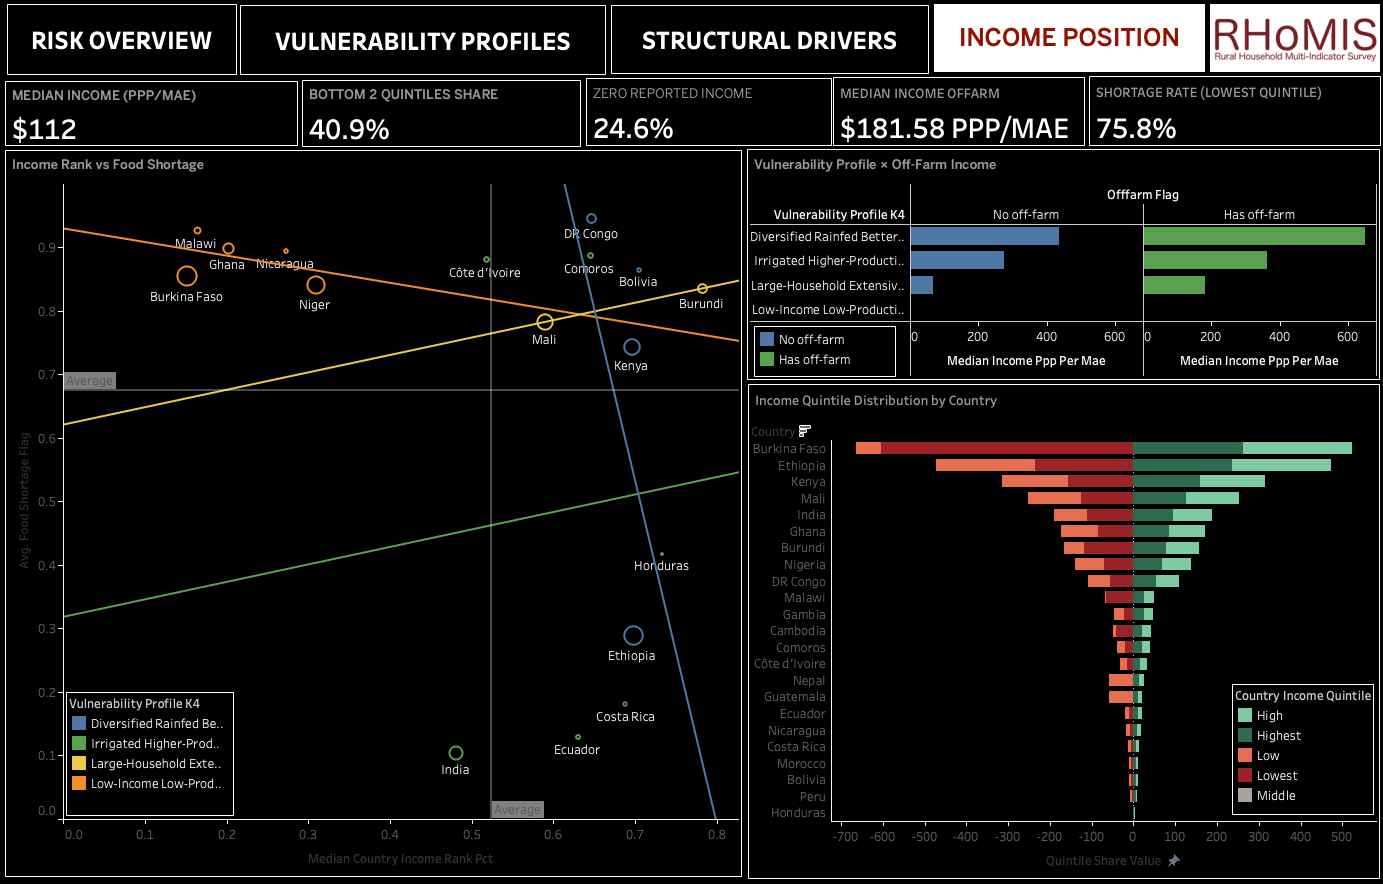

Layout of this report page (visuals, bound fields, positions):
{"tool":"tableau","page":{"name":"INCOME POSITION","canvas":[1000,1000],"units":"permille","ordinal":0},"visuals":[{"type":"blank","box":[5.7,8.9,988.6,982.2]},{"type":"dashboard-object","box":[10.7,13.3,164.3,78.9]},{"type":"image","param":"Image/rhomis-logo.png","box":[870,13.3,122.1,75.6]},{"type":"dashboard-object","box":[177.1,14.4,261.4,77.8]},{"type":"dashboard-object","box":[442.1,14.4,226.4,76.7]},{"type":"text","box":[674.1,15.7,192.2,72.5]},{"type":"worksheet","title":"KPI4-SHORTAGE RATE (LOWEST QUINTILE)","mark":"Automatic","box":[783.6,93.3,208.6,77.8]},{"type":"worksheet","title":"KPI4-MEDIAN INCOME OFFARM","mark":"Automatic","box":[600.7,94.4,180,76.7]},{"type":"worksheet","title":"KPI4-ZERO REPORTED INCOME","mark":"Automatic","box":[424.3,95.6,175.7,75.6]},{"type":"worksheet","title":"KPI4-BOTTOM 2 QUINTILES SHARE","mark":"Automatic","box":[221.4,97.8,199.3,74.4]},{"type":"worksheet","title":"KPI4-MEDIAN INCOME (PPP/MAE)","mark":"Automatic","box":[9.3,98.9,209.3,72.2]},{"type":"worksheet","title":"Vulnerability Profile × Off-Farm Income ","mark":"Bar","rows":["vulnerability_profile_k4"],"cols":["offfarm_flag","income_ppp_per_mae"],"box":[539.3,174.4,452.1,256.7]},{"type":"worksheet","title":"Income Rank vs Food Shortage","mark":"Automatic","rows":["food_shortage_flag"],"cols":["country_income_rank_pct"],"box":[9.3,175.6,526.4,807.8]},{"type":"legend","title":"Vulnerability Profile × Off-Farm Income ","param":"[federated.18g2uha1kfgs62108f3sf1ksln33].[none:offfarm_flag:ok]","box":[544.3,371.1,101.4,56.7]},{"type":"worksheet","title":"Income Quintile Distribution by Country","mark":"Bar","rows":["country"],"box":[540,435.6,451.4,550]},{"type":"legend","title":"Income Quintile Distribution by Country","param":"[federated.18g2uha1kfgs62108f3sf1ksln33].[none:country_income_quintile:nk]","box":[885.7,768.9,101.4,145.6]},{"type":"legend","title":"Income Rank vs Food Shortage","param":"[federated.18g2uha1kfgs62108f3sf1ksln33].[none:vulnerability_profile_k4:nk]","box":[52.9,777.8,120,137.8]}]}

Visuals, with their boxes on the dashboard's canvas, which has no fixed pixel size, in thousandths of its width and height (x1, y1, x2, y2). These are canvas units, not pixel positions in the 1383x886 screenshot, which may show the page scaled, cropped or inside an application window:
blank: rect(6, 9, 994, 991)
dashboard-object: rect(11, 13, 175, 92)
image: rect(870, 13, 992, 89)
dashboard-object: rect(177, 14, 438, 92)
dashboard-object: rect(442, 14, 668, 91)
text: rect(674, 16, 866, 88)
"KPI4-SHORTAGE RATE (LOWEST QUINTILE)" worksheet: rect(784, 93, 992, 171)
"KPI4-MEDIAN INCOME OFFARM" worksheet: rect(601, 94, 781, 171)
"KPI4-ZERO REPORTED INCOME" worksheet: rect(424, 96, 600, 171)
"KPI4-BOTTOM 2 QUINTILES SHARE" worksheet: rect(221, 98, 421, 172)
"KPI4-MEDIAN INCOME (PPP/MAE)" worksheet: rect(9, 99, 219, 171)
"Vulnerability Profile × Off-Farm Income " worksheet (Bar marks): rect(539, 174, 991, 431)
"Income Rank vs Food Shortage" worksheet: rect(9, 176, 536, 983)
"Vulnerability Profile × Off-Farm Income " legend: rect(544, 371, 646, 428)
"Income Quintile Distribution by Country" worksheet (Bar marks): rect(540, 436, 991, 986)
"Income Quintile Distribution by Country" legend: rect(886, 769, 987, 914)
"Income Rank vs Food Shortage" legend: rect(53, 778, 173, 916)
